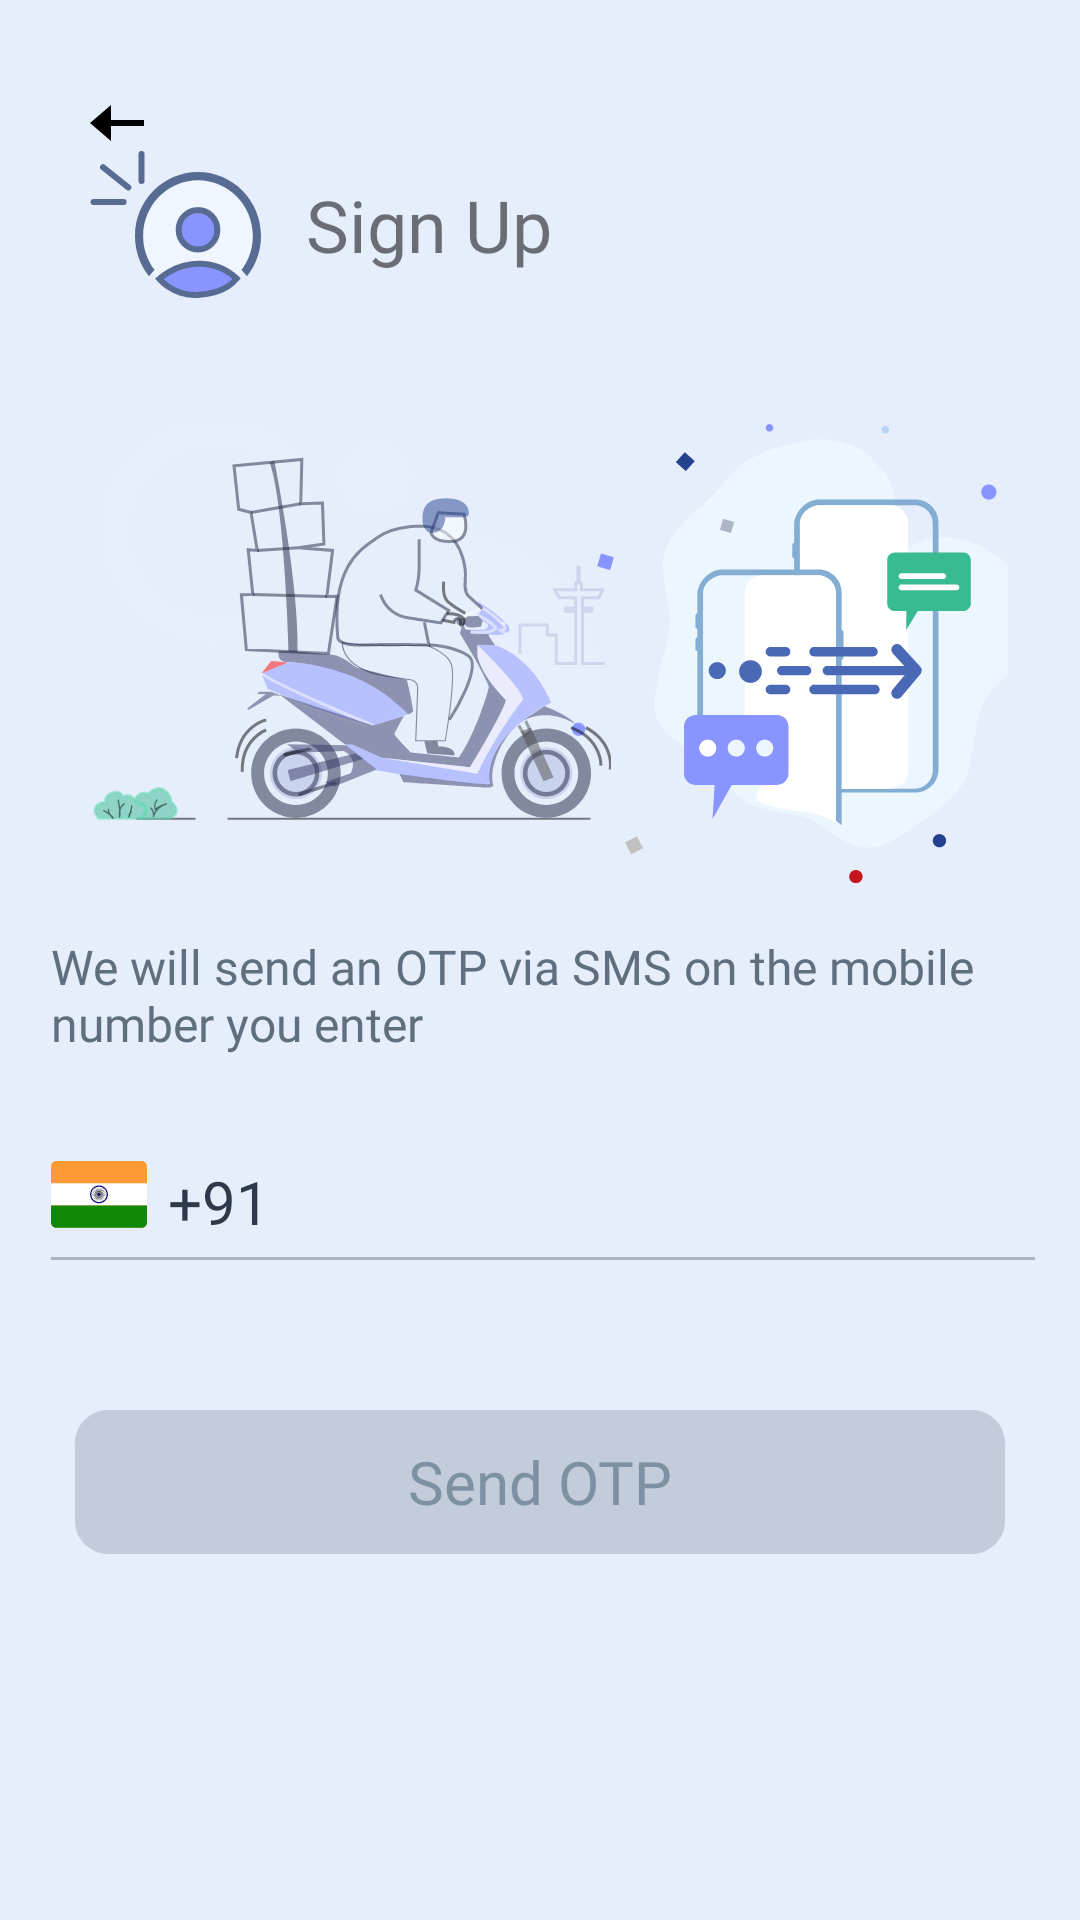

Point at icon controls on the screen. Image size 1080*1920, points as (x=x, y=y).
back arrow: (x=117, y=123)
profile: (x=175, y=224)
